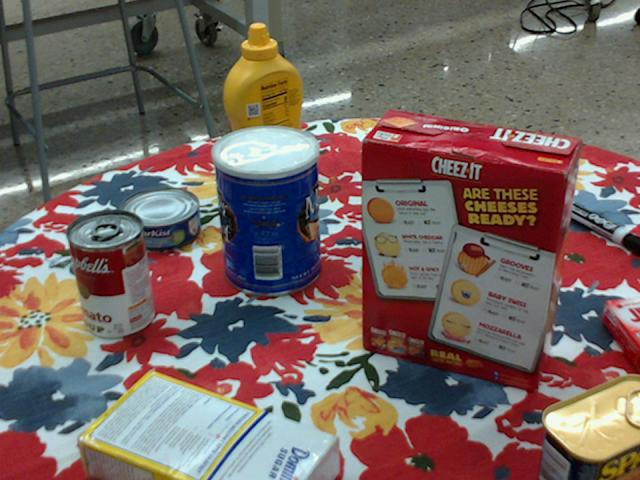cracker_box: (360, 111, 582, 395)
gelatin_box: (601, 297, 639, 371)
large_marker: (555, 196, 639, 254)
master_chef_can: (212, 124, 320, 297)
mug: (390, 135, 470, 218)
mustard_bottle: (225, 25, 309, 194)
potted_meat_can: (538, 373, 639, 479)
sugar_box: (75, 372, 339, 479)
tomato_soup_can: (67, 208, 154, 338)
tuna_fish_can: (121, 186, 202, 249)
